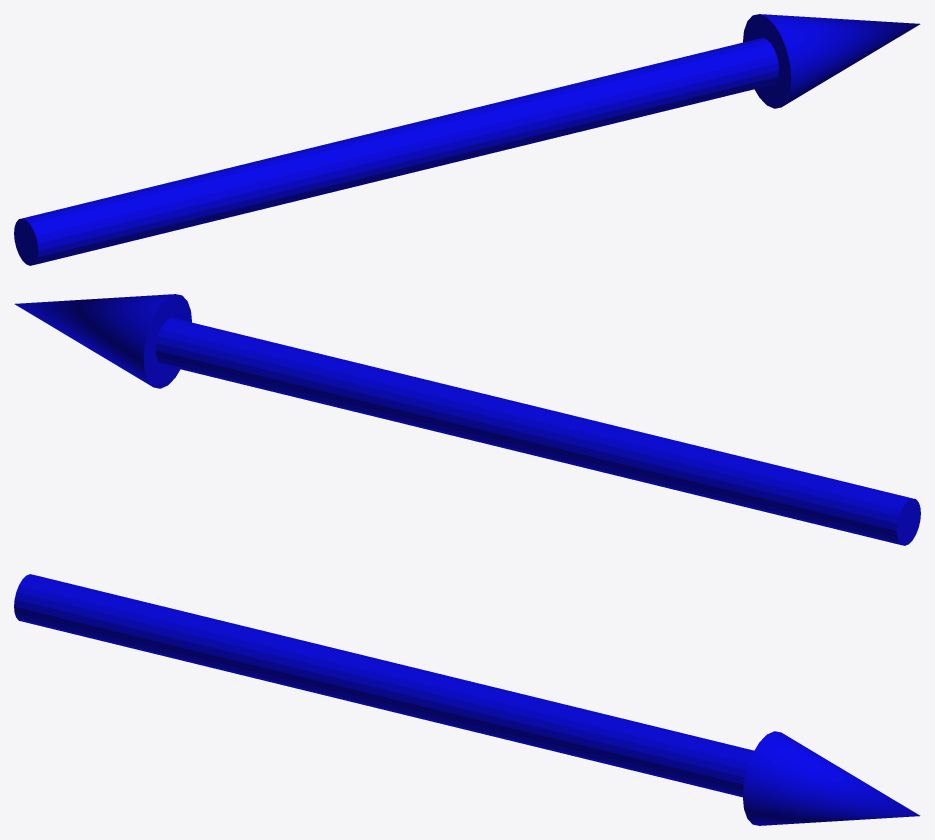
Rendered from arrowB.fbx.
3 renders of one model, top to bottom at view 1: azimuth 30°, elevation 25°; view 2: azimuth 150°, elevation 25°; view 3: azimuth 330°, elevation 25°, orthographic.
Visible parts, largest first — view 1: pCone1; view 2: pCone1; view 3: pCone1.
Part boxes in pixels (box(x1,y1,x2,y2)): pCone1: box(14, 14, 920, 265); pCone1: box(14, 294, 920, 545); pCone1: box(14, 574, 920, 825).
Size of the model in its own units: 0.0642 by 0.00603 by 0.00603.
